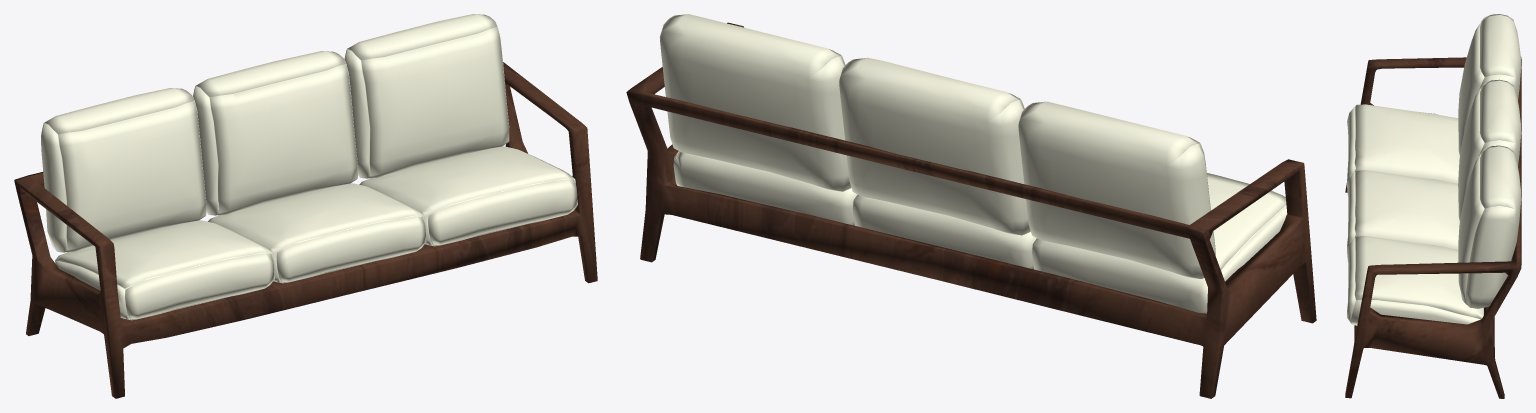
The model's file is sofa_004.glb.
3 renders of one model, left to right at view 1: azimuth 30°, elevation 25°; view 2: azimuth 150°, elevation 25°; view 3: azimuth 270°, elevation 25°, orthographic. The views are drawn at different scales.
Parts seen in each view (by area): view 1: Sofa_004; view 2: Sofa_004; view 3: Sofa_004.
Part boxes in pixels (x1,y1,x2,y2): Sofa_004: [14, 14, 597, 398]; Sofa_004: [626, 14, 1316, 398]; Sofa_004: [1345, 14, 1521, 398].
Size of the model in its own units: 2.32 by 0.9613 by 0.8175.
Materials: 1 (1 with a texture image).
